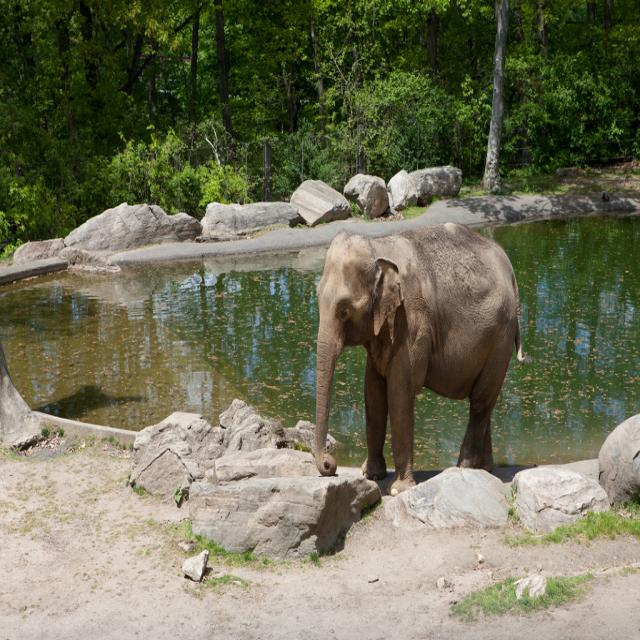elephant: (312, 222, 529, 498)
